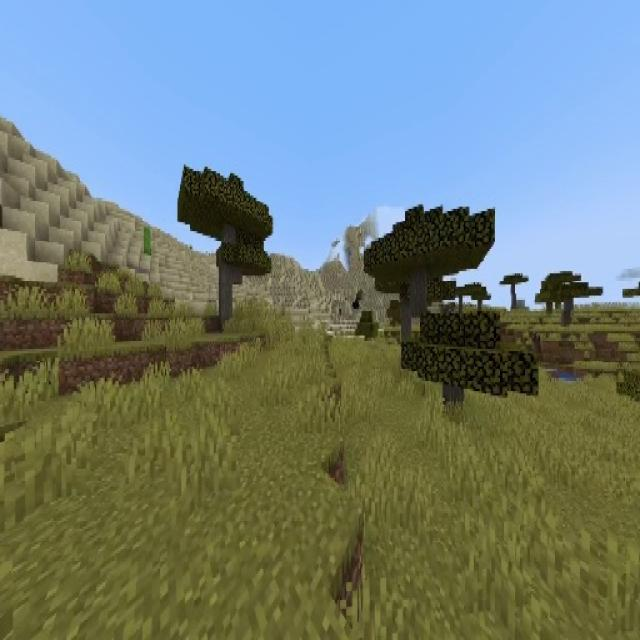acacia: (365, 205, 495, 346), (176, 165, 274, 328), (398, 308, 537, 418)
acacia_log: (218, 268, 234, 328), (412, 270, 426, 315), (401, 302, 411, 339)
